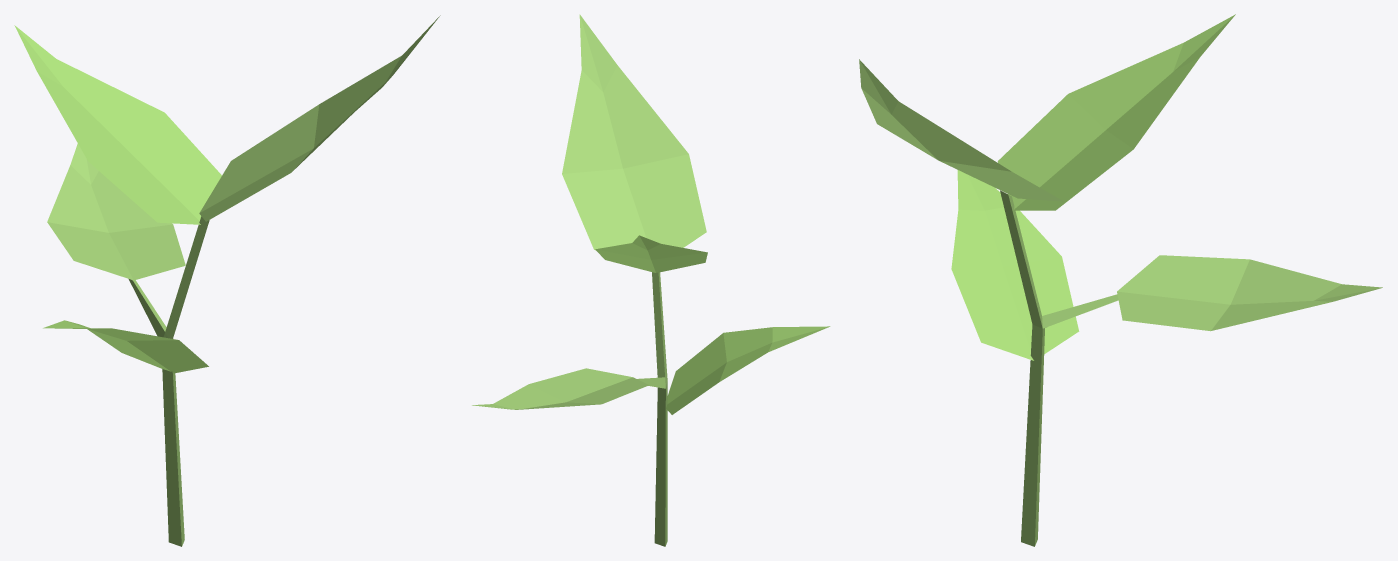
The model's file is Plant_f_OneS_05.fbx.
3 renders of one model, left to right at view 1: azimuth 30°, elevation 25°; view 2: azimuth 150°, elevation 25°; view 3: azimuth 270°, elevation 25°, orthographic. The views are drawn at different scales.
Visible parts, largest first — view 1: Plant_f_OneS_05; view 2: Plant_f_OneS_05; view 3: Plant_f_OneS_05.
Boxes of the visible parts, x1=… form: Plant_f_OneS_05: x1=14, y1=15, x2=440, y2=546; Plant_f_OneS_05: x1=472, y1=14, x2=830, y2=546; Plant_f_OneS_05: x1=859, y1=14, x2=1382, y2=546.
Bounding box in the file's own units: 0.4554 × 0.6703 × 0.5512.
